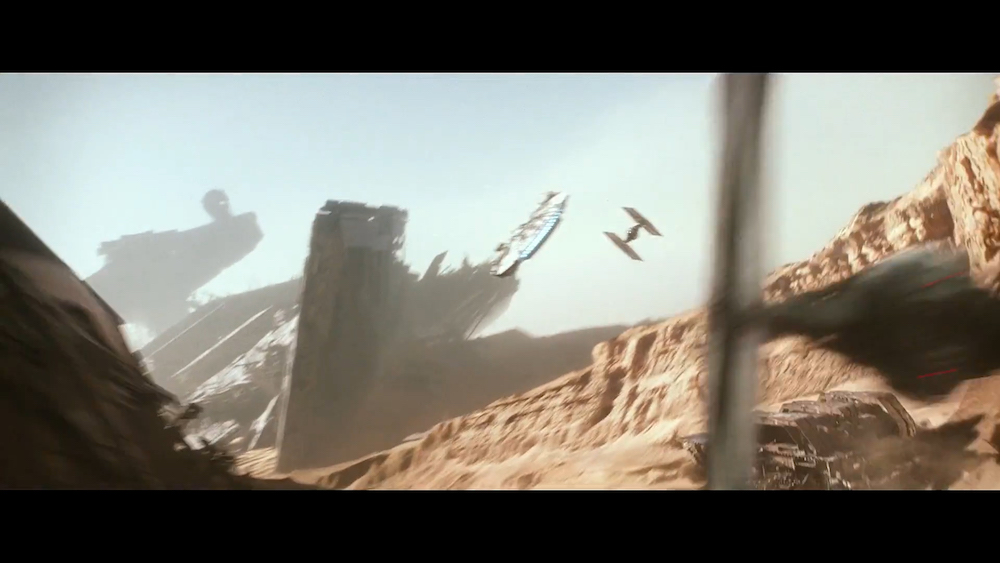Millennium Falcon: (490, 191, 571, 280)
Tie Fighter: (702, 76, 1000, 489), (603, 207, 664, 262)
